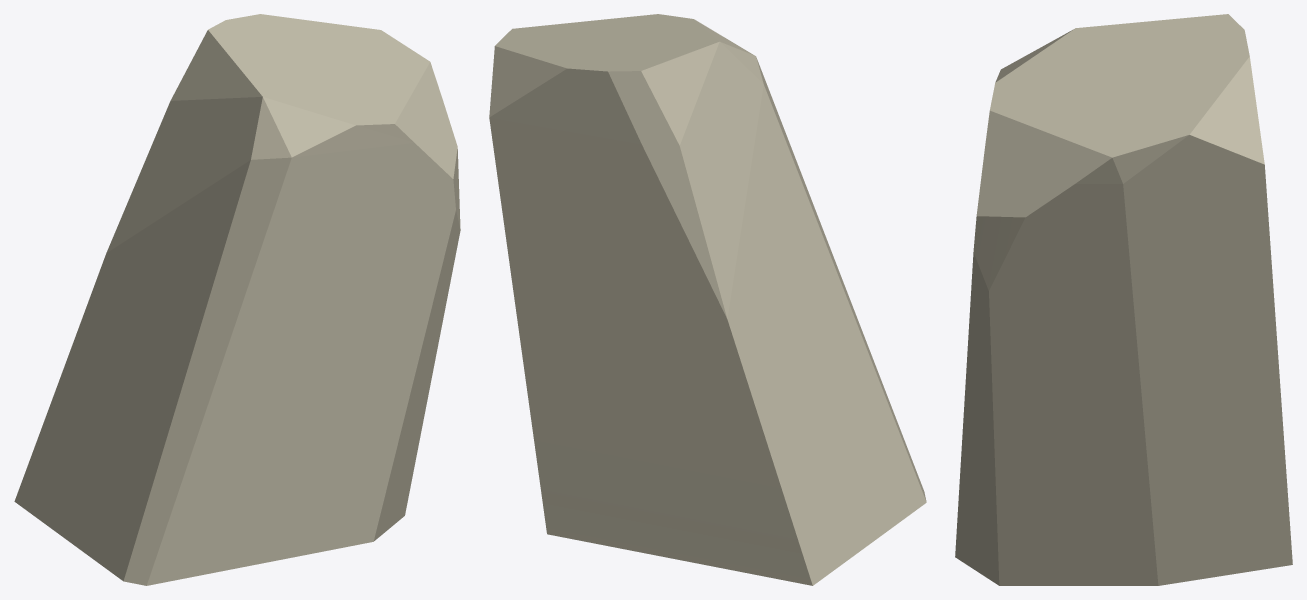
File: Rock_Square_l_09.fbx
3 renders of one model, left to right at view 1: azimuth 30°, elevation 25°; view 2: azimuth 150°, elevation 25°; view 3: azimuth 270°, elevation 25°, orthographic. The views are drawn at different scales.
Parts seen in each view (by area): view 1: Rock_Square_l_09; view 2: Rock_Square_l_09; view 3: Rock_Square_l_09.
Part boxes in pixels (x1,y1,x2,y2): Rock_Square_l_09: (14, 14, 460, 585); Rock_Square_l_09: (489, 14, 926, 585); Rock_Square_l_09: (955, 14, 1292, 585).
Bounding box in the file's own units: 256 × 305 × 181.
